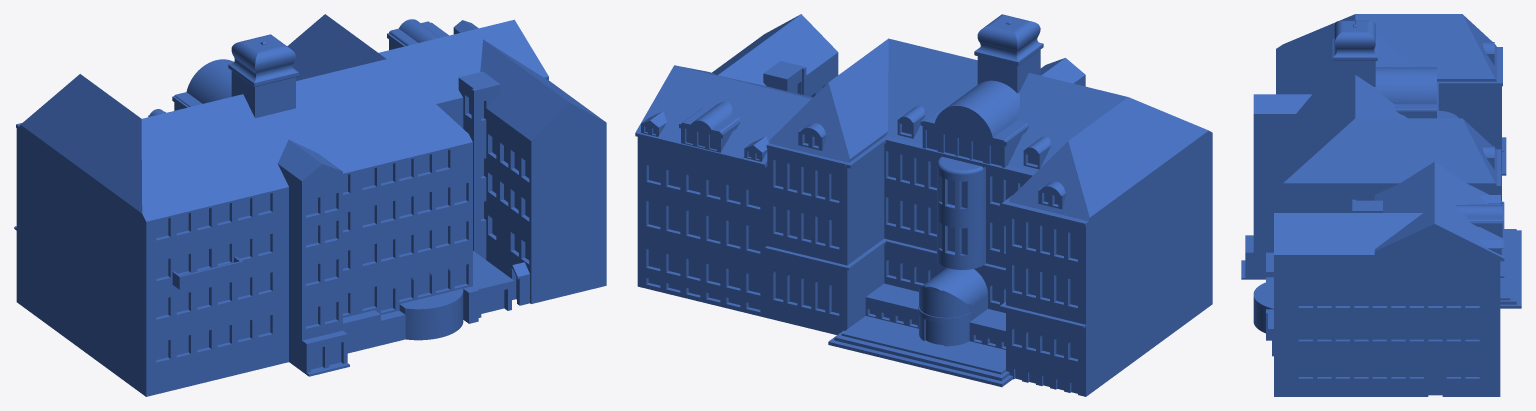
3 renders of one model, left to right at view 1: azimuth 30°, elevation 25°; view 2: azimuth 150°, elevation 25°; view 3: azimuth 270°, elevation 25°, orthographic. The views are drawn at different scales.
Parts seen in each view (by area): view 1: Energetyk_Aktualny; view 2: Energetyk_Aktualny; view 3: Energetyk_Aktualny.
Part boxes in pixels (box(x1,y1,x2,y2)): Energetyk_Aktualny: box(14, 14, 606, 396); Energetyk_Aktualny: box(635, 14, 1212, 396); Energetyk_Aktualny: box(1241, 14, 1521, 396).
Bounding box in the file's own units: 28 × 16.76 × 16.99.
